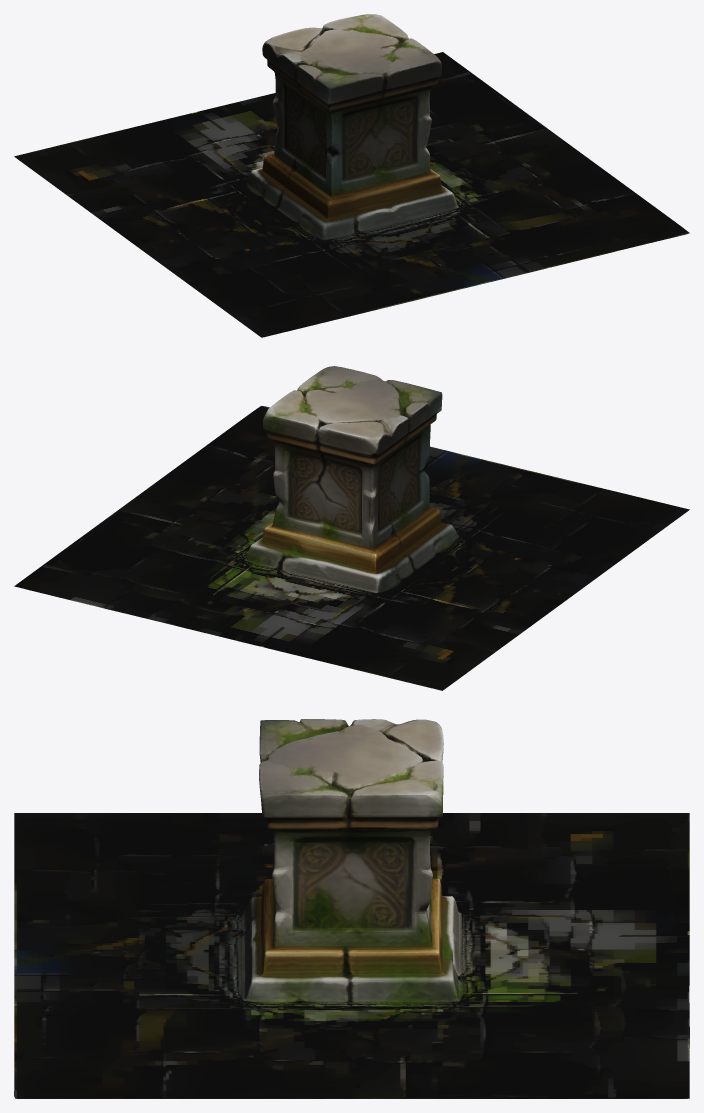
Rendered from pedestal_cracked.glb.
The picture shows the model from 3 angles, top to bottom: view 1: azimuth 30°, elevation 25°; view 2: azimuth 150°, elevation 25°; view 3: azimuth 270°, elevation 25°; orthographic projection. The views are drawn at different scales.
Parts seen in each view (by area): view 1: world; view 2: world; view 3: world.
Part boxes in pixels (box(x1,y1,x2,y2)): world: box(14, 14, 689, 337); world: box(14, 366, 689, 690); world: box(14, 719, 689, 1098).
Size of the model in its own units: 1 by 0.3455 by 1.
1 material, 1 textured.
